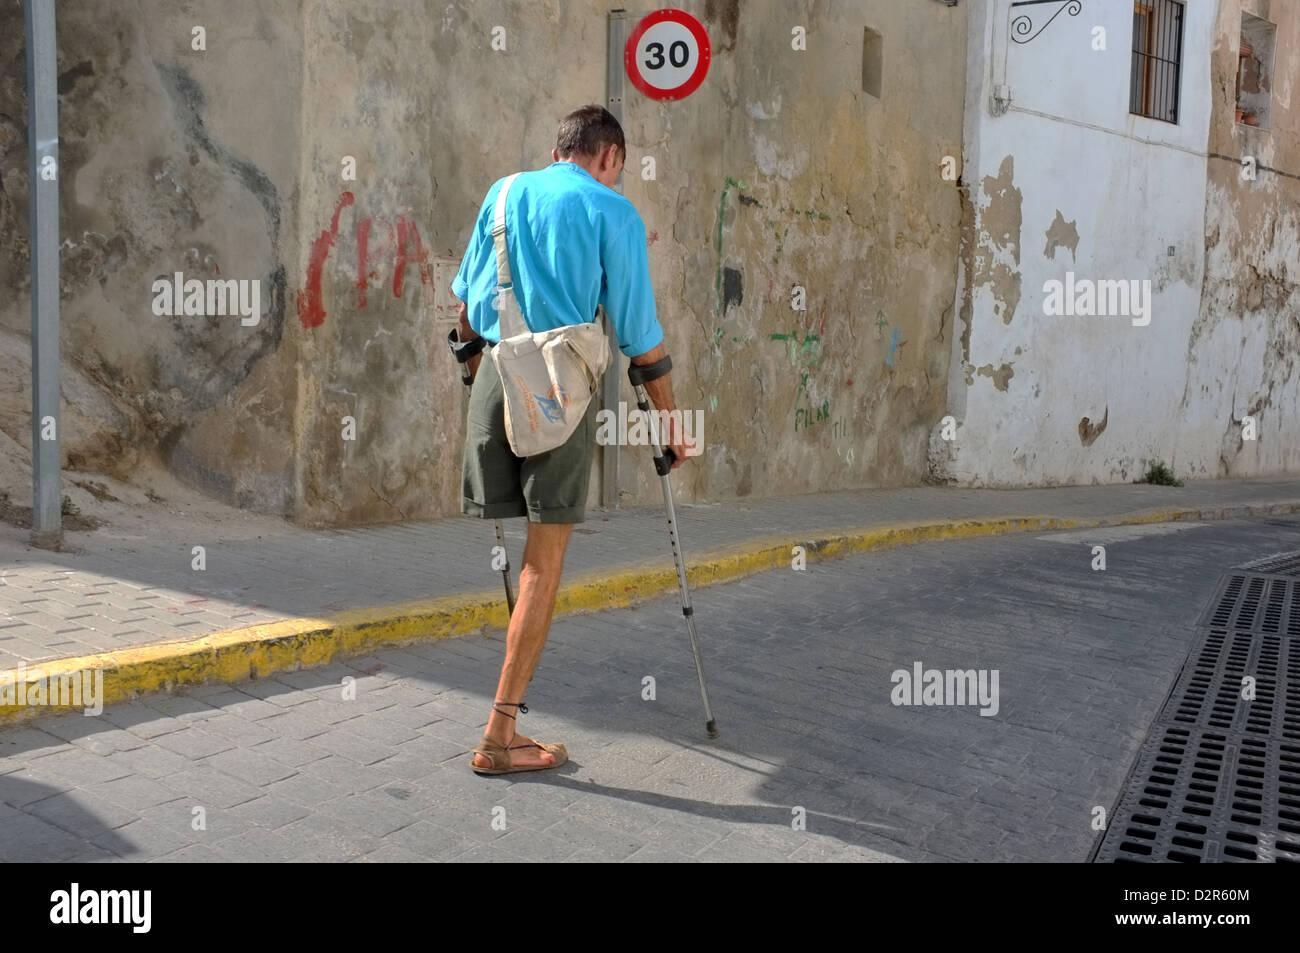crutches: (447, 104, 721, 775)
